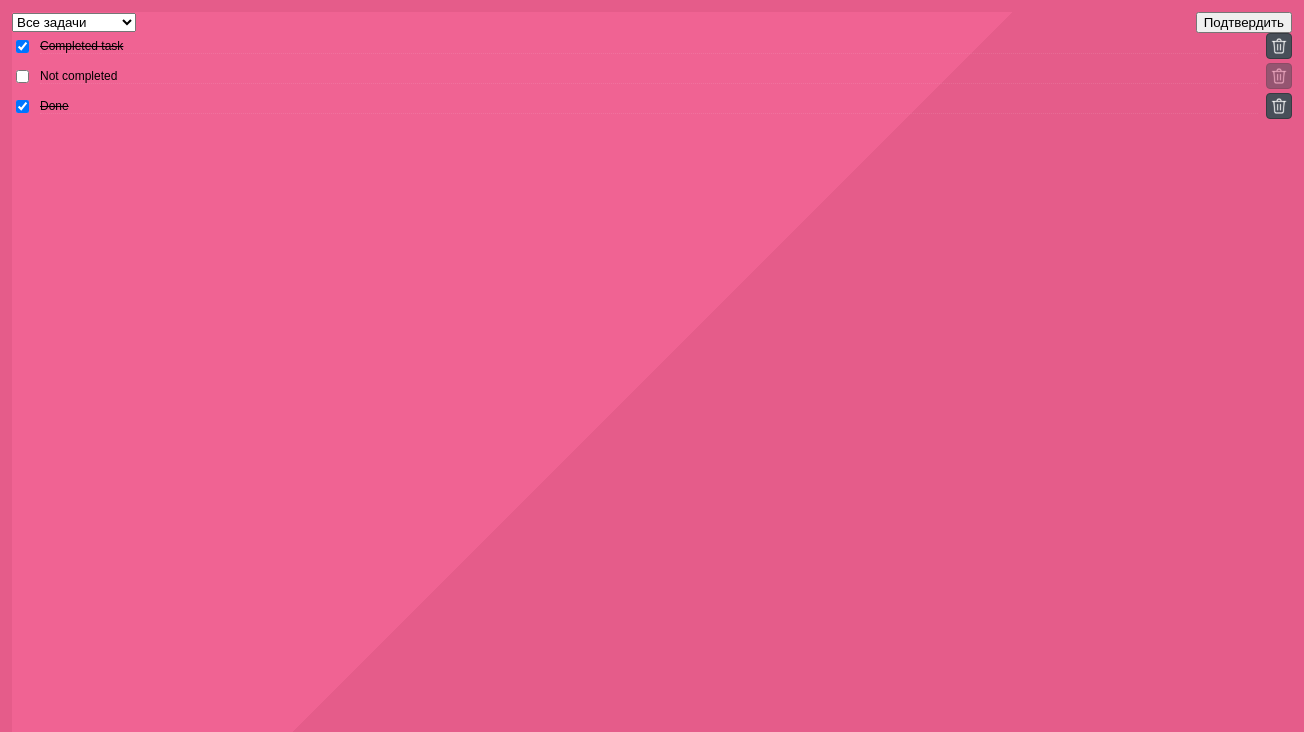
Test: Список задач › Фильтр по невыполненным
Select "Незавершенные" in the dropdown: (74, 22) [12,13,136,32]
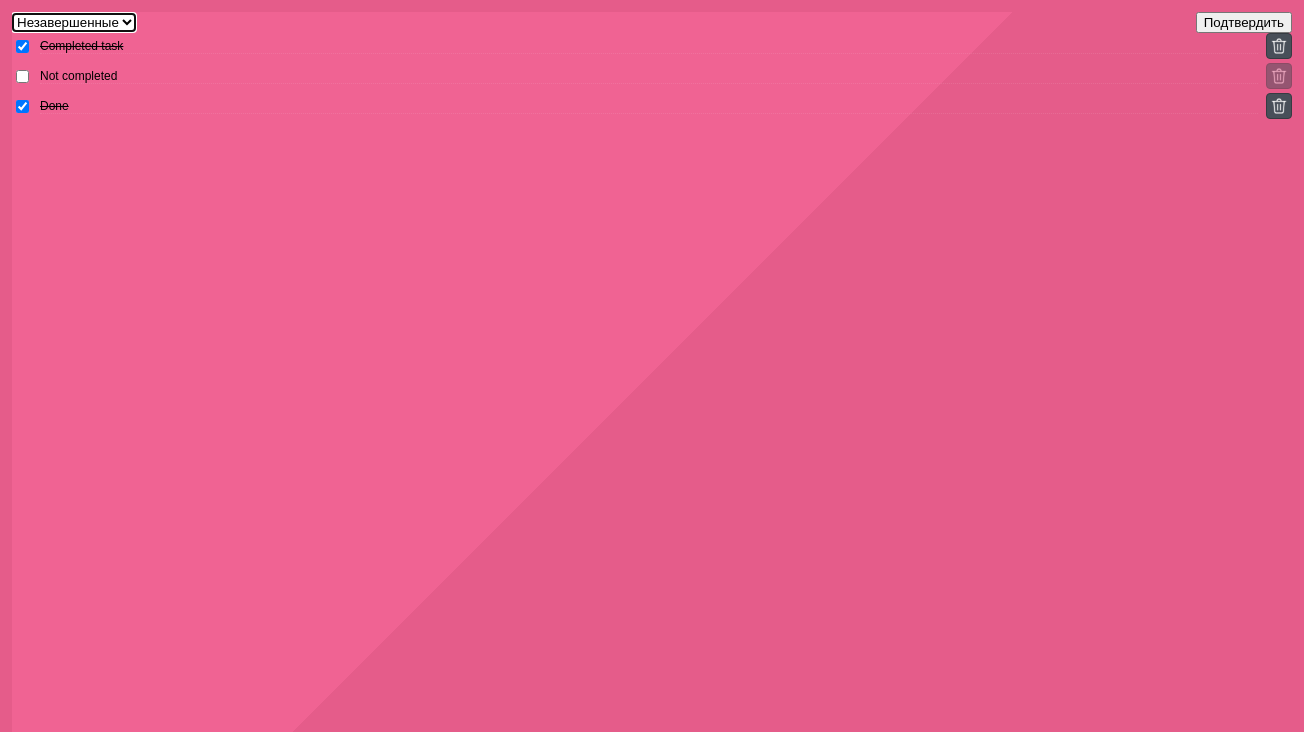
Click the button "Подтвердить": (1244, 22) [1196,12,1292,33]
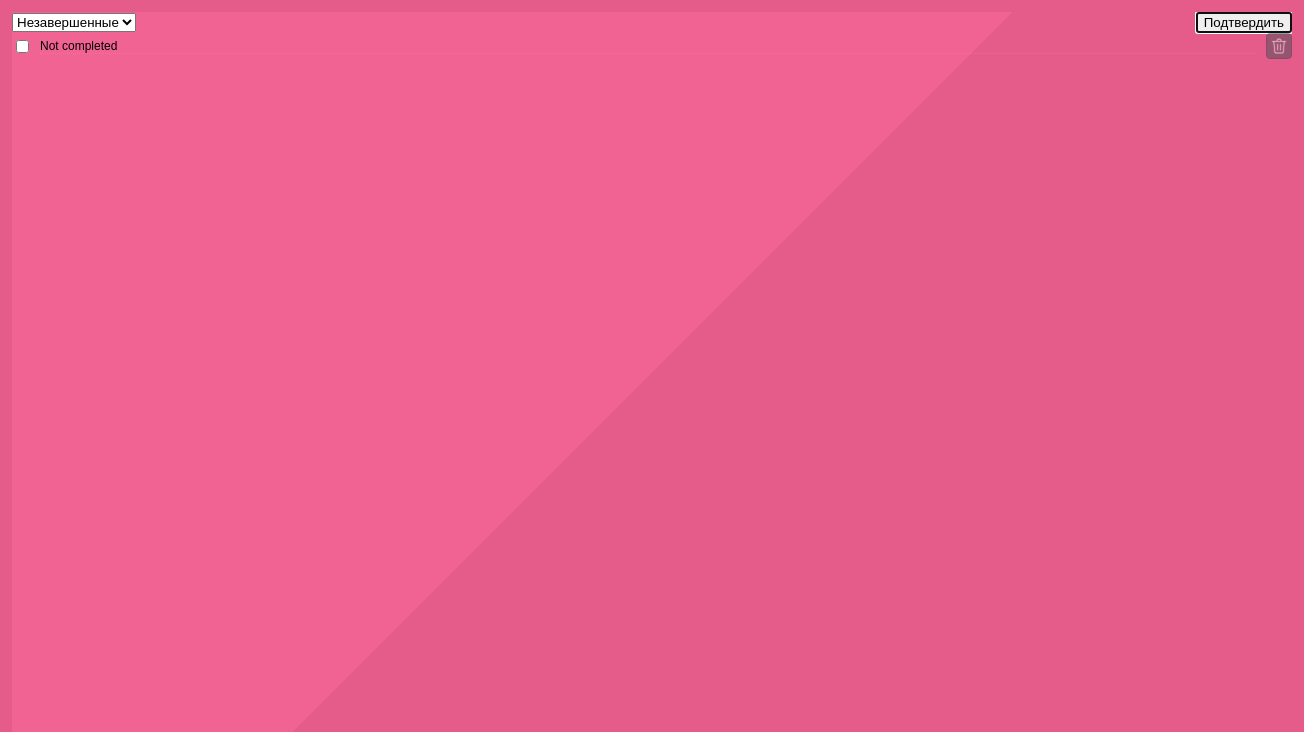
Expected: the text "Not completed" is shown, [40,38,1258,54]
Result: the text "Completed task" is gone
Result: the text "Done" is gone
